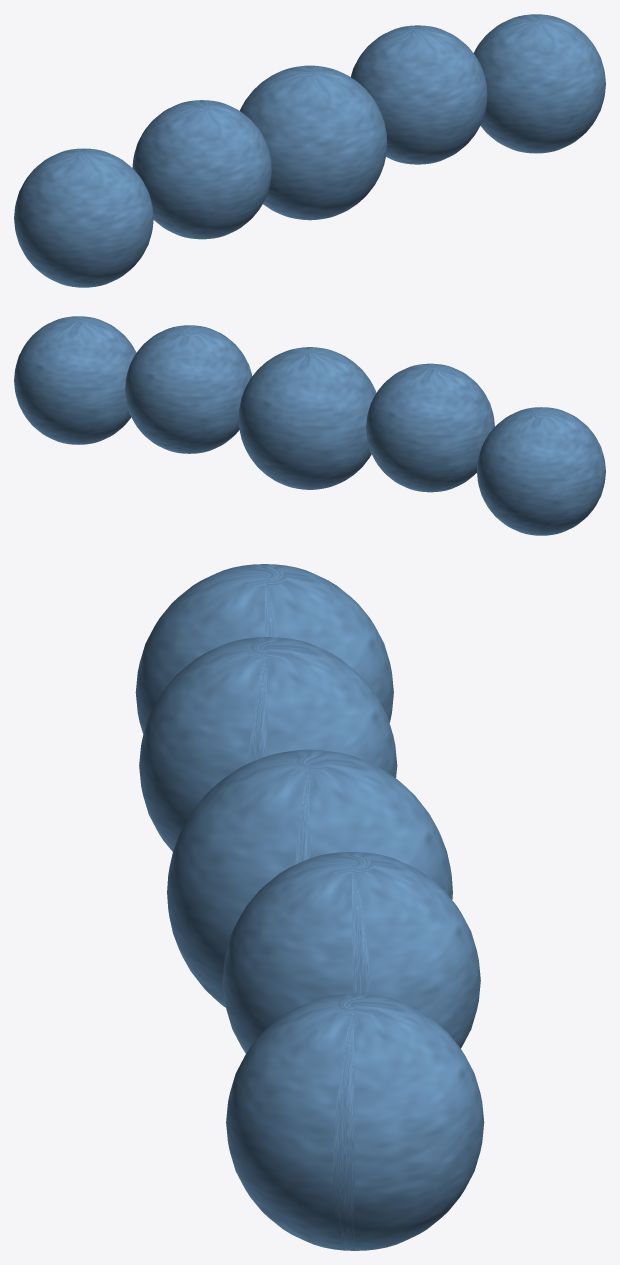
File: complete.glb
3 views of the same model, one above another, from view 1: azimuth 30°, elevation 25°; view 2: azimuth 150°, elevation 25°; view 3: azimuth 270°, elevation 25° (orthographic). The views are drawn at different scales.
Parts seen in each view (by area): view 1: parede_mesh; view 2: parede_mesh; view 3: parede_mesh.
Boxes of the visible parts, <box> form: parede_mesh: <box>14,14,605,287</box>; parede_mesh: <box>14,316,605,535</box>; parede_mesh: <box>135,564,484,1250</box>.
Bounding box in the file's own units: 6.42 × 1.49 × 1.75.
5 materials, 5 textured.
